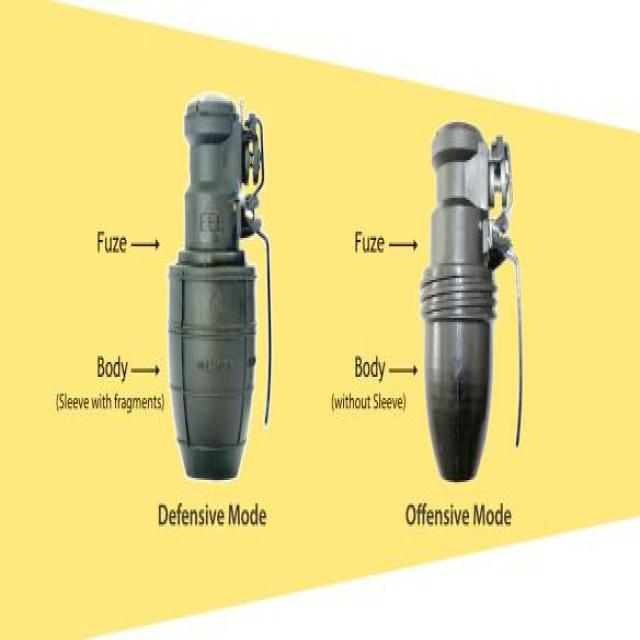grenade: (169, 96, 273, 483), (420, 123, 524, 483)
